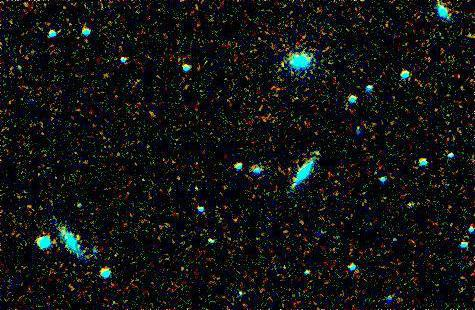star: (303, 139, 333, 169)
